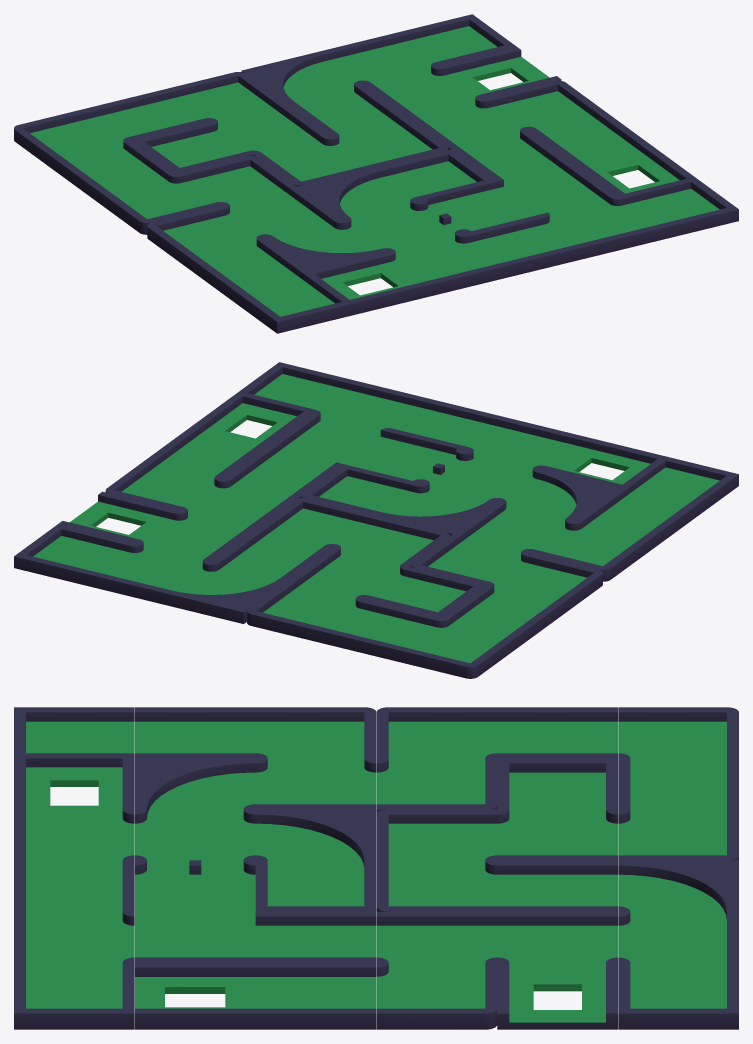
File: level.glb
3 views of the same model, one above another, from view 1: azimuth 30°, elevation 25°; view 2: azimuth 150°, elevation 25°; view 3: azimuth 270°, elevation 25° (orthographic). The views are drawn at different scales.
Visible parts, largest first — view 1: mergedBlocks(Clone); view 2: mergedBlocks(Clone); view 3: mergedBlocks(Clone).
Part boxes in pixels (x1,y1,x2,y2): mergedBlocks(Clone): [14, 14, 738, 333]; mergedBlocks(Clone): [14, 362, 738, 678]; mergedBlocks(Clone): [14, 707, 738, 1029].
Bounding box in the file's own units: 6 × 0.1467 × 6.
1 material, 1 textured.
